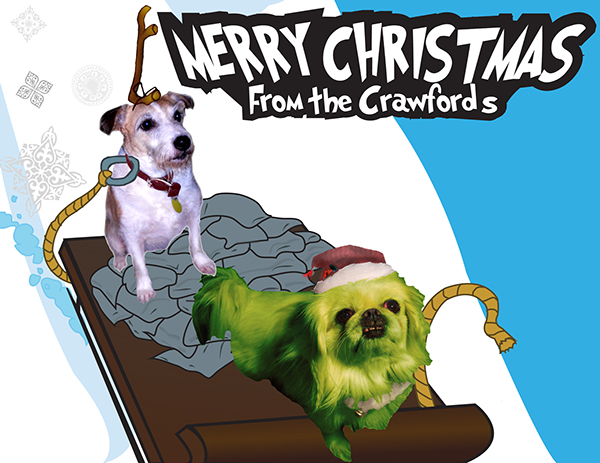dog: (191, 253, 433, 463), (98, 92, 220, 306)
